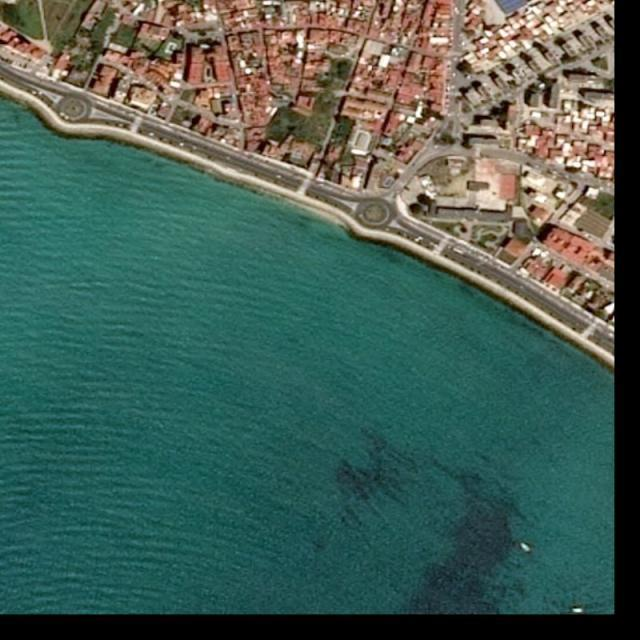ship: (520, 540, 533, 554), (572, 608, 583, 614)
